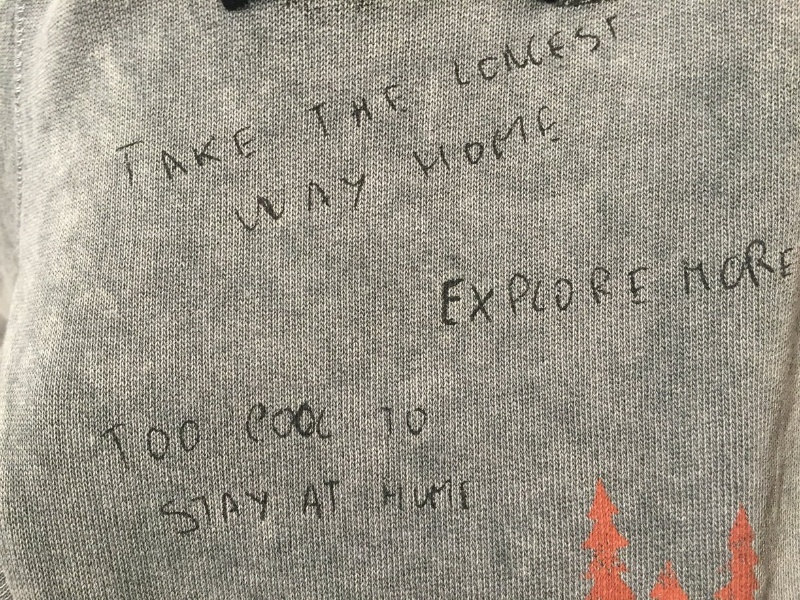text: (225, 147, 240, 253), (241, 147, 256, 253), (257, 147, 272, 253), (273, 147, 288, 253), (289, 147, 304, 253), (305, 147, 320, 253), (321, 147, 336, 253), (337, 147, 352, 253), (353, 147, 368, 253), (449, 7, 464, 102), (465, 7, 480, 102), (481, 7, 496, 102), (497, 7, 512, 102), (513, 7, 528, 102), (529, 7, 544, 102), (545, 7, 560, 102), (561, 7, 576, 102), (577, 7, 592, 102), (593, 7, 608, 102), (609, 7, 624, 102), (417, 97, 432, 191), (433, 97, 448, 191), (449, 97, 464, 191), (465, 97, 480, 191), (481, 97, 496, 191), (497, 97, 512, 191), (513, 97, 528, 191), (529, 97, 544, 191), (545, 97, 560, 191), (97, 391, 112, 480), (113, 391, 128, 480), (129, 391, 144, 480), (145, 391, 160, 480), (161, 391, 176, 480), (177, 391, 192, 480), (113, 114, 128, 200), (129, 114, 144, 200), (145, 114, 160, 200), (161, 114, 176, 200), (177, 114, 192, 200), (193, 114, 208, 200), (209, 114, 224, 200), (225, 114, 240, 200), (241, 114, 256, 200), (449, 257, 464, 334), (465, 257, 480, 334), (481, 257, 496, 334), (497, 257, 512, 334), (513, 257, 528, 334), (529, 257, 544, 334), (545, 257, 560, 334), (561, 257, 576, 334), (577, 257, 592, 334), (593, 257, 608, 334), (609, 257, 624, 334), (625, 257, 640, 334), (641, 257, 656, 334), (689, 229, 704, 304), (705, 229, 720, 304), (721, 229, 736, 304), (737, 229, 752, 304), (753, 229, 768, 304), (769, 229, 784, 304), (305, 74, 320, 148), (321, 74, 336, 148), (337, 74, 352, 148), (353, 74, 368, 148), (369, 74, 384, 148), (385, 74, 400, 148), (401, 74, 416, 148), (193, 391, 205, 480), (785, 229, 799, 304), (675, 229, 688, 304), (257, 114, 268, 200), (436, 257, 448, 334), (161, 484, 176, 540), (177, 484, 192, 540), (193, 484, 208, 540), (209, 484, 224, 540), (225, 484, 240, 540), (241, 484, 256, 540), (257, 484, 271, 540), (408, 97, 416, 191), (561, 97, 569, 191), (241, 400, 256, 449), (257, 400, 272, 449), (273, 400, 288, 449), (289, 400, 304, 449), (305, 400, 320, 449), (321, 400, 336, 449), (305, 479, 320, 524), (321, 479, 336, 524), (385, 478, 400, 516), (401, 478, 416, 516), (417, 478, 432, 516), (433, 478, 448, 516), (449, 478, 464, 516), (369, 147, 374, 253), (385, 404, 400, 438), (401, 404, 416, 438), (417, 404, 432, 438), (91, 391, 96, 480), (465, 478, 476, 516), (337, 400, 345, 449), (625, 7, 629, 102), (337, 479, 344, 524), (300, 74, 304, 148), (417, 74, 421, 148), (155, 484, 160, 540), (378, 404, 384, 438), (110, 114, 112, 200), (657, 257, 659, 334), (380, 478, 384, 516), (301, 479, 304, 524), (238, 400, 240, 449), (447, 7, 448, 102)
